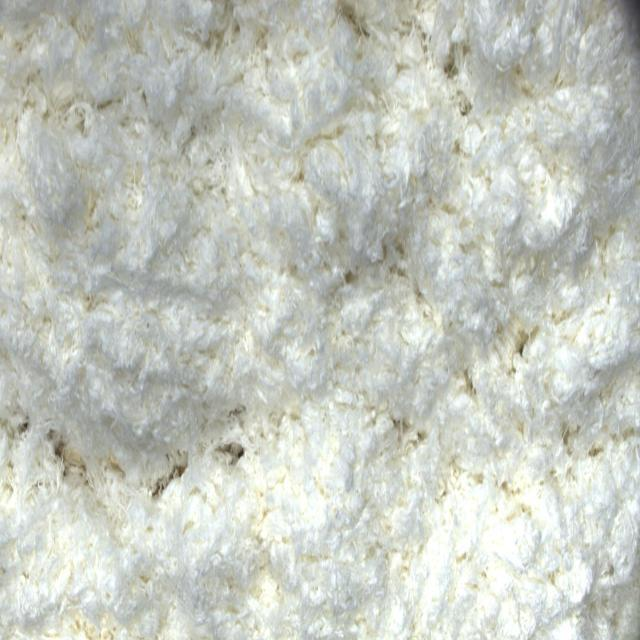dust: (50, 427, 88, 483), (155, 449, 191, 503), (222, 428, 246, 479)
